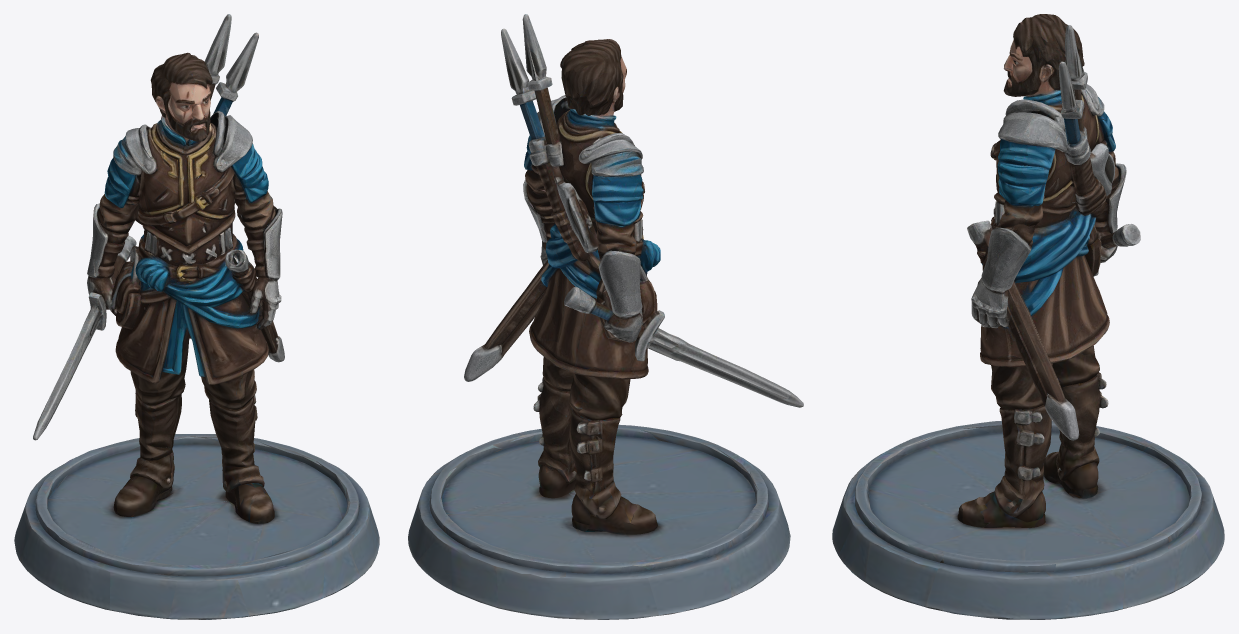
Rendered from assar.glb.
3 views of the same model, side by side, from view 1: azimuth 30°, elevation 25°; view 2: azimuth 150°, elevation 25°; view 3: azimuth 270°, elevation 25° (orthographic). The views are drawn at different scales.
Visible parts, largest first — view 1: output_unwrapped; view 2: output_unwrapped; view 3: output_unwrapped.
Boxes of the visible parts, bbox=[...] form: output_unwrapped: bbox=[14, 14, 379, 619]; output_unwrapped: bbox=[408, 14, 803, 619]; output_unwrapped: bbox=[832, 14, 1224, 619].
Bounding box in the file's own units: 1.34 × 1.9 × 1.25.
Materials: 1 (1 with a texture image).
